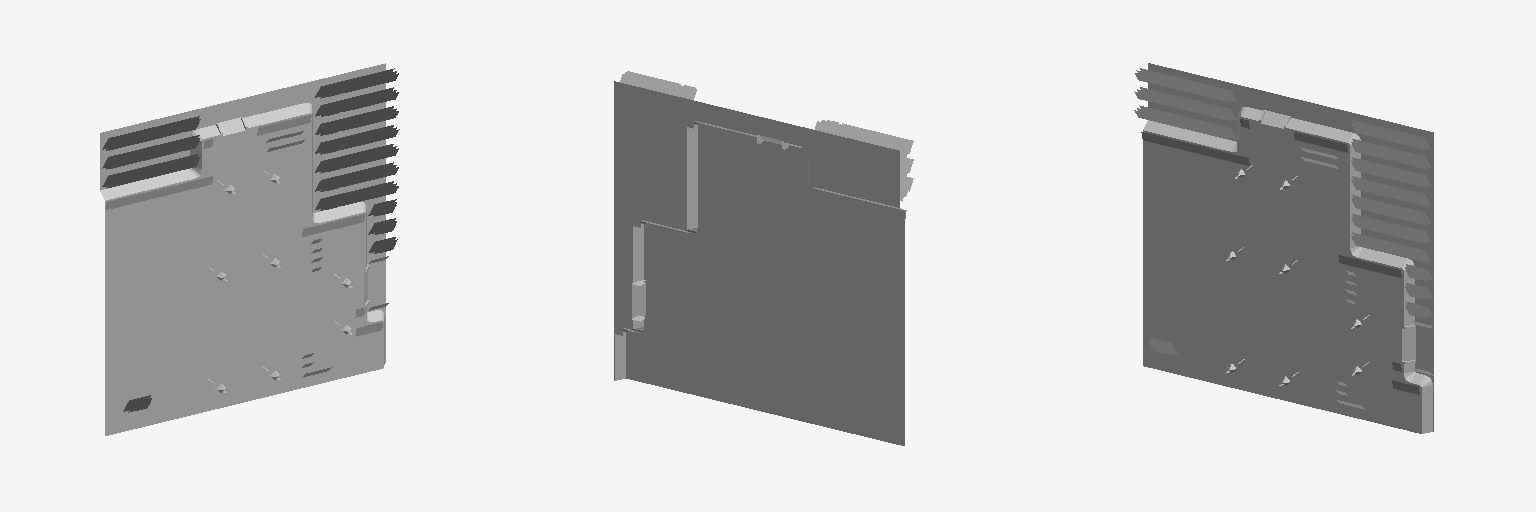
File: Plat_full_04_17.obj
The picture shows the model from 3 angles: view 1: azimuth 30°, elevation 25°; view 2: azimuth 150°, elevation 25°; view 3: azimuth 330°, elevation 25°; orthographic projection.
Visible parts, largest first — view 1: map; view 2: map; view 3: map.
Part boxes in pixels (left/top/right/bottom): map: left=100, top=63, right=399, bottom=435; map: left=614, top=71, right=913, bottom=445; map: left=1134, top=63, right=1433, bottom=433.
Bounding box in the file's own units: 32.25 × 32.12 × 4.69.